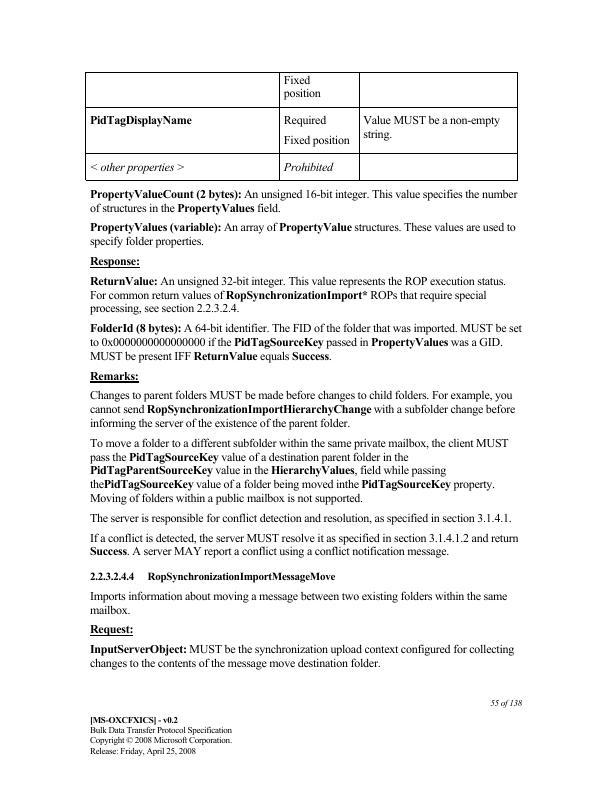table: (82, 70, 520, 184)
text: (86, 434, 509, 505), (88, 322, 524, 363), (87, 273, 507, 315), (86, 389, 517, 429), (88, 531, 519, 559), (87, 643, 517, 671), (87, 188, 518, 215), (87, 221, 517, 248), (86, 589, 508, 616), (86, 511, 513, 526), (86, 715, 234, 758), (86, 569, 339, 584), (86, 368, 141, 386), (88, 253, 143, 270), (86, 621, 136, 639), (487, 696, 523, 709)
